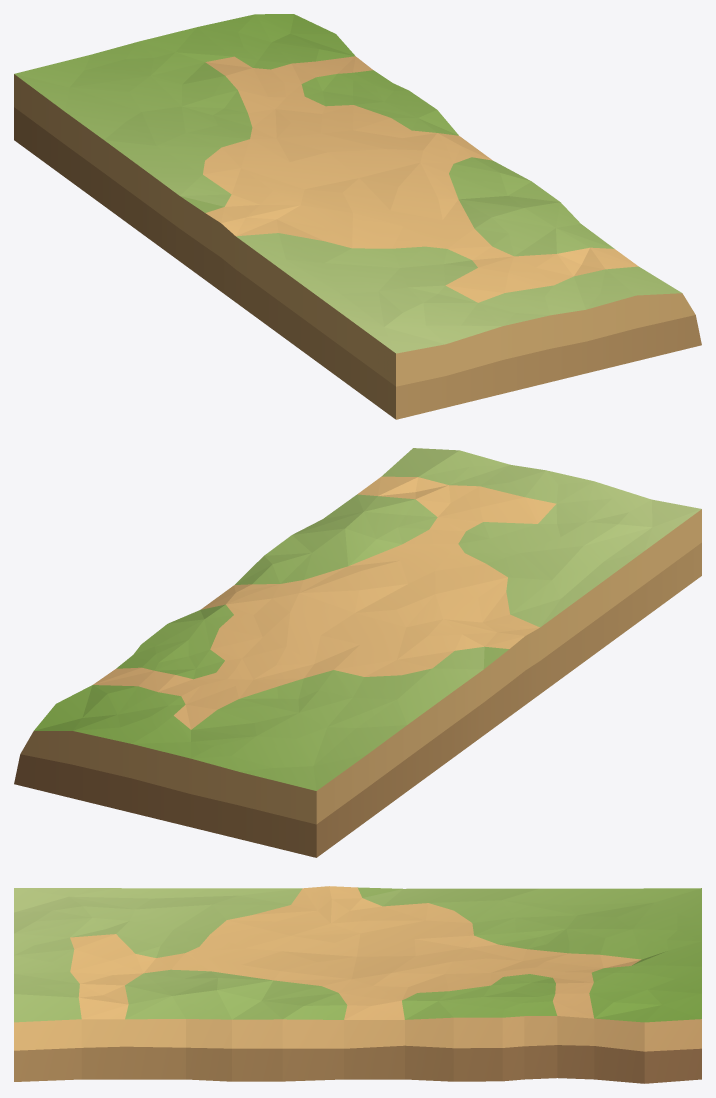
The model's file is land-trade-port.glb.
3 views of the same model, one above another, from view 1: azimuth 30°, elevation 25°; view 2: azimuth 150°, elevation 25°; view 3: azimuth 270°, elevation 25° (orthographic). The views are drawn at different scales.
Parts seen in each view (by area): view 1: land trade port; view 2: land trade port; view 3: land trade port.
Part boxes in pixels (<box>): land trade port: <box>14,14,701,419</box>; land trade port: <box>14,448,701,857</box>; land trade port: <box>14,886,701,1083</box>.
Bounding box in the file's own units: 21.06 × 4.58 × 45.
Materials: 1 (1 with a texture image).
